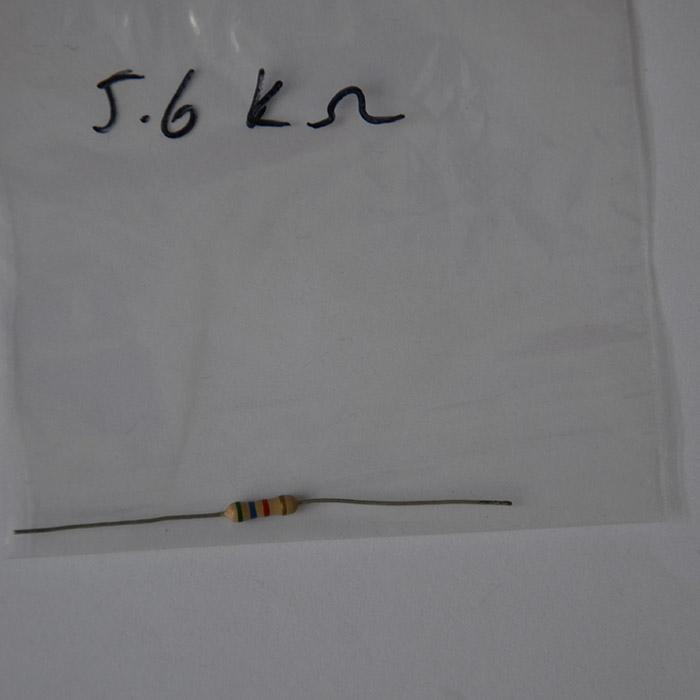resistor: (223, 494, 298, 522)
